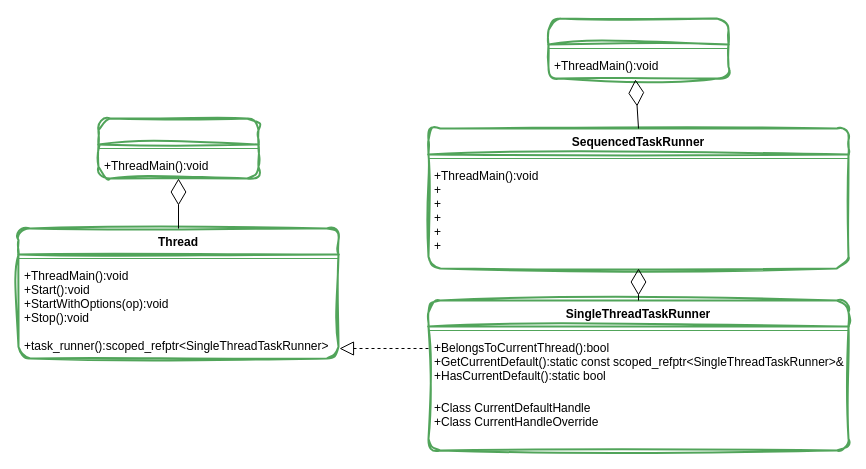
Some shapes in this 866 by 469 pixel diagram are drawn without their labels. The shapes that lost their labels are listed below. From the top down, each one's box as (x1, y1, x2, y2) in pixels, then its label:
(547, 17, 729, 79): TaskRunner
(97, 117, 259, 179): PlatformThread::Delegate
